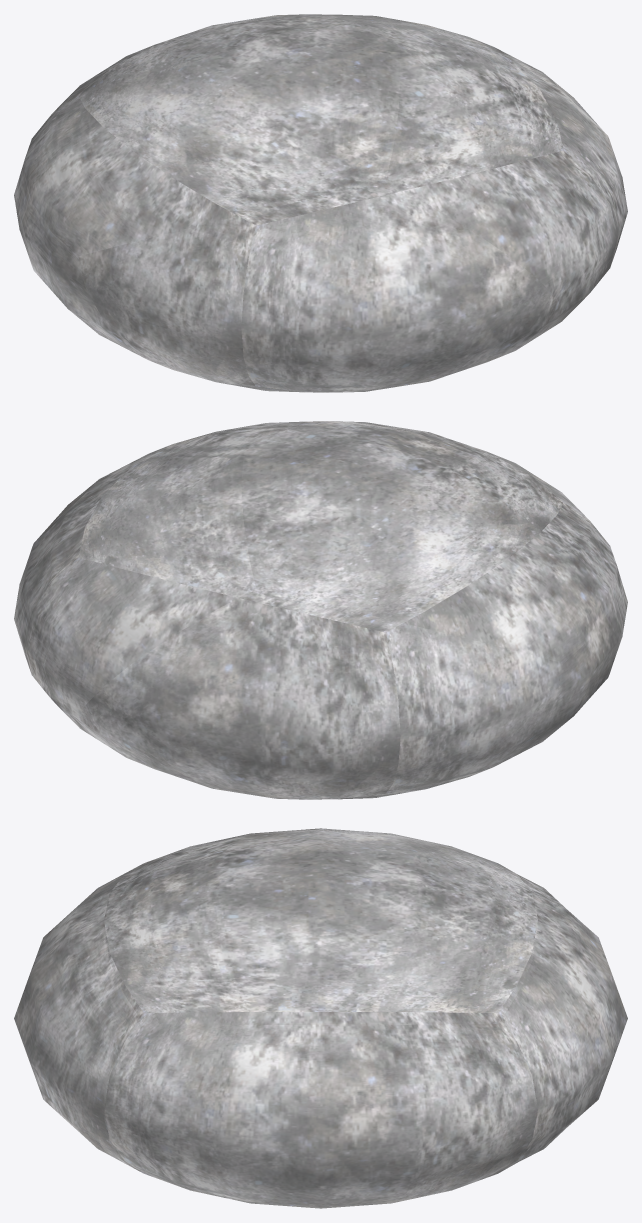
Rendered from oil.obj.
The picture shows the model from 3 angles, top to bottom: view 1: azimuth 30°, elevation 25°; view 2: azimuth 150°, elevation 25°; view 3: azimuth 270°, elevation 25°; orthographic projection.
Parts seen in each view (by area): view 1: Oil1; view 2: Oil1; view 3: Oil1.
Boxes of the visible parts, x1=… form: Oil1: x1=14, y1=14, x2=627, y2=392; Oil1: x1=14, y1=421, x2=627, y2=799; Oil1: x1=14, y1=828, x2=627, y2=1208.
Bounding box in the file's own units: 2 × 1 × 2.
Materials: 1 (1 with a texture image).
